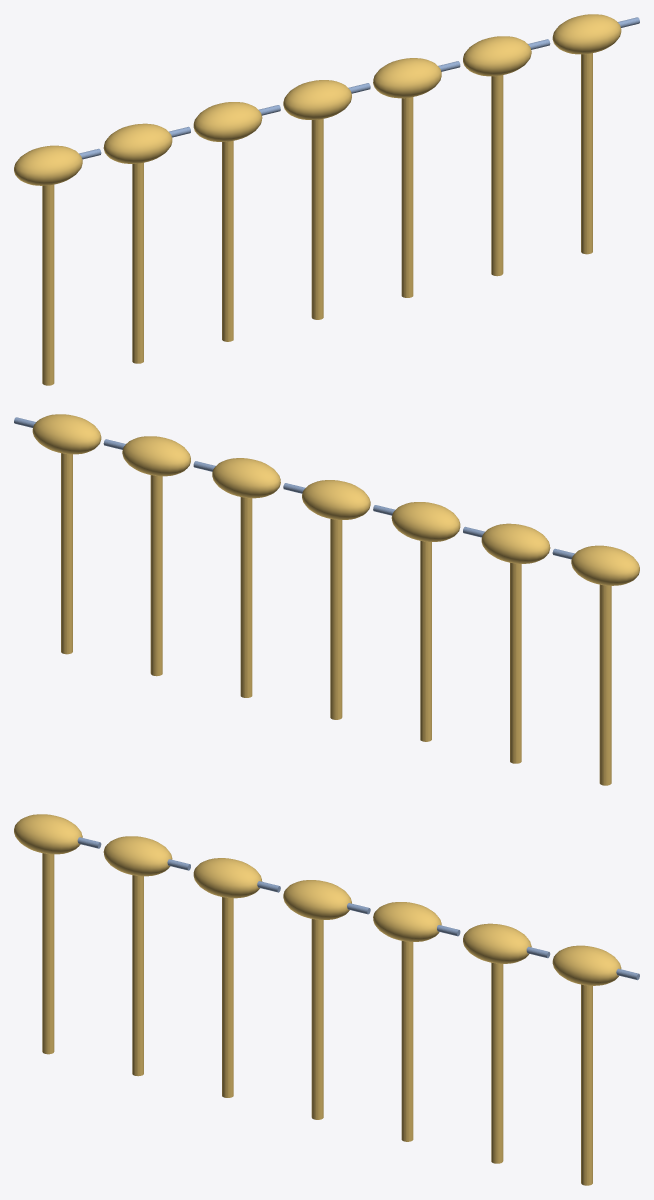
File: sete_lampadas.glb
3 renders of one model, top to bottom at view 1: azimuth 30°, elevation 25°; view 2: azimuth 150°, elevation 25°; view 3: azimuth 330°, elevation 25°, orthographic.
Parts seen in each view (by area): view 1: Pedestal, Pedestal.005, Pedestal.003, Pedestal.004, Pedestal.006, Pedestal.001, Pedestal.002, Reservatório.006, Reservatório, Reservatório.005, Reservatório.004, Reservatório.001 (+2 smaller); view 2: Pedestal, Pedestal.005, Pedestal.003, Pedestal.004, Pedestal.006, Pedestal.001, Pedestal.002, Reservatório.006, Reservatório, Reservatório.005, Reservatório.004, Reservatório.001 (+2 smaller); view 3: Pedestal, Pedestal.003, Pedestal.004, Pedestal.005, Pedestal.006, Pedestal.001, Pedestal.002, Reservatório.006, Reservatório.001, Reservatório, Reservatório.002, Reservatório.005 (+2 smaller).
Boxes of the visible parts, <box> form: Pedestal: <box>42,184,54,385</box>; Pedestal.005: <box>491,75,503,276</box>; Pedestal.003: <box>311,119,323,319</box>; Pedestal.004: <box>401,97,413,297</box>; Pedestal.006: <box>581,53,592,254</box>; Pedestal.001: <box>132,162,143,363</box>; Pedestal.002: <box>222,141,233,341</box>; Reservatório.006: <box>552,14,621,54</box>; Reservatório: <box>14,145,82,185</box>; Reservatório.005: <box>463,36,531,76</box>; Reservatório.004: <box>373,58,441,98</box>; Reservatório.001: <box>103,123,172,163</box>; Pedestal: <box>599,584,611,785</box>; Pedestal.005: <box>150,475,162,676</box>; Pedestal.003: <box>330,519,342,719</box>; Pedestal.004: <box>240,497,252,697</box>; Pedestal.006: <box>61,453,72,654</box>; Pedestal.001: <box>510,562,521,763</box>; Pedestal.002: <box>420,541,431,741</box>; Reservatório.006: <box>32,414,101,454</box>; Reservatório: <box>571,545,639,585</box>; Reservatório.005: <box>122,436,190,476</box>; Reservatório.004: <box>212,458,280,498</box>; Reservatório.001: <box>481,523,550,563</box>; Pedestal: <box>42,853,54,1054</box>; Pedestal.003: <box>311,919,323,1119</box>; Pedestal.004: <box>401,941,413,1141</box>; Pedestal.005: <box>491,962,503,1163</box>; Pedestal.006: <box>581,984,592,1185</box>; Pedestal.001: <box>132,875,143,1076</box>; Pedestal.002: <box>222,897,233,1097</box>; Reservatório.006: <box>552,945,621,985</box>; Reservatório.001: <box>103,836,172,876</box>; Reservatório: <box>14,814,82,854</box>; Reservatório.002: <box>193,858,262,898</box>; Reservatório.005: <box>463,923,531,963</box>.
Bounding box in the file's own units: 4.85 × 1.74 × 0.35.
2 materials, 1 textured.
